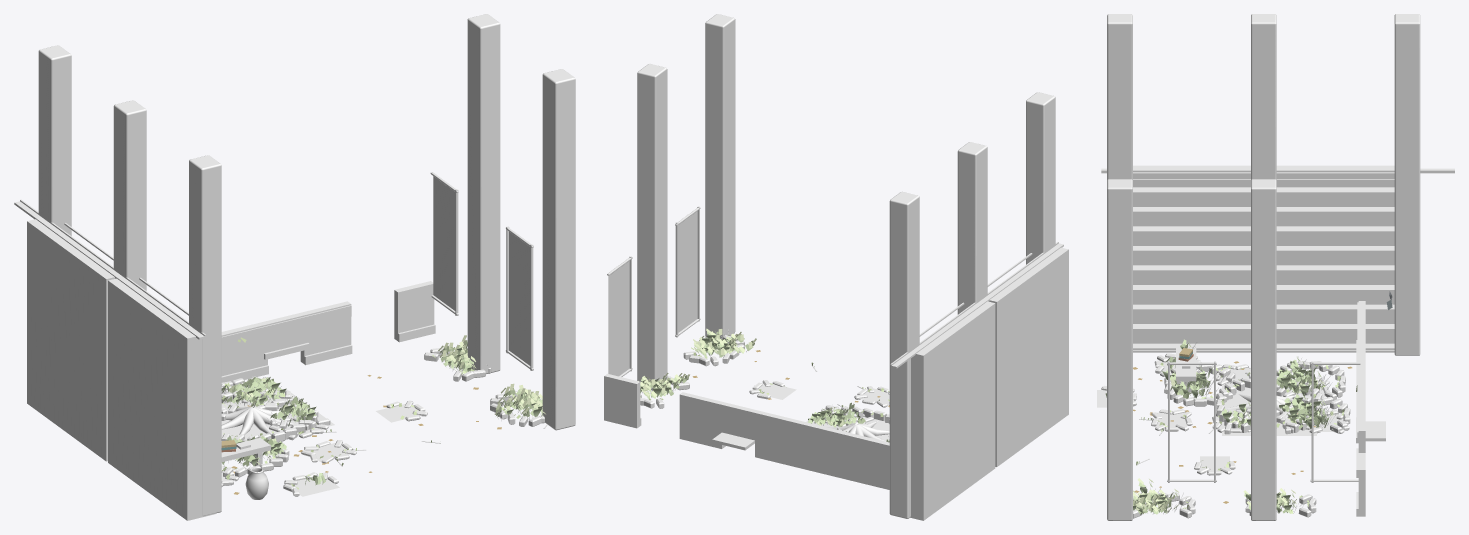
File: camp_garden.glb
The picture shows the model from 3 angles, left to right: view 1: azimuth 30°, elevation 25°; view 2: azimuth 150°, elevation 25°; view 3: azimuth 270°, elevation 25°; orthographic projection. The views are drawn at different scales.
Parts seen in each view (by area): view 1: camp_garden__brick, camp_garden__stack_atlas, camp_garden__wood, camp_garden__limestone, camp_garden__foliage_ivy_leaf, camp_garden__tapestry_1, camp_garden__brass, camp_garden__tapestry_2, camp_garden__earth_patch, camp_garden__foliage_tree_leaf, camp_garden__mosaic, camp_garden__sandstone (+2 smaller); view 2: camp_garden__brick, camp_garden__stack_atlas, camp_garden__wood, camp_garden__tapestry_1, camp_garden__tapestry_2, camp_garden__brass, camp_garden__limestone, camp_garden__foliage_tree_leaf, camp_garden__foliage_ivy_leaf, camp_garden__earth_patch, camp_garden__foliage_fern, camp_garden__bark; view 3: camp_garden__brick, camp_garden__stack_atlas, camp_garden__wood, camp_garden__limestone, camp_garden__brass, camp_garden__foliage_ivy_leaf, camp_garden__earth_patch, camp_garden__foliage_fern, camp_garden__foliage_tree_leaf, camp_garden__vine.
Boxes of the visible parts, x1,y1,x2,y2 form: camp_garden__brick: [38, 14, 575, 515]; camp_garden__stack_atlas: [28, 220, 193, 519]; camp_garden__wood: [14, 201, 270, 520]; camp_garden__limestone: [221, 343, 545, 496]; camp_garden__foliage_ivy_leaf: [221, 337, 543, 494]; camp_garden__tapestry_1: [433, 176, 455, 310]; camp_garden__brass: [20, 172, 533, 370]; camp_garden__tapestry_2: [509, 231, 530, 365]; camp_garden__earth_patch: [221, 386, 421, 496]; camp_garden__foliage_tree_leaf: [221, 335, 545, 489]; camp_garden__mosaic: [221, 305, 351, 348]; camp_garden__sandstone: [221, 324, 435, 465]; camp_garden__brick: [604, 14, 1055, 518]; camp_garden__stack_atlas: [918, 248, 1067, 518]; camp_garden__wood: [891, 243, 1068, 520]; camp_garden__tapestry_1: [608, 261, 629, 376]; camp_garden__tapestry_2: [678, 211, 697, 332]; camp_garden__brass: [607, 206, 1058, 376]; camp_garden__limestone: [640, 335, 889, 430]; camp_garden__foliage_tree_leaf: [638, 328, 889, 425]; camp_garden__foliage_ivy_leaf: [640, 331, 889, 442]; camp_garden__earth_patch: [755, 383, 889, 440]; camp_garden__foliage_fern: [640, 334, 889, 441]; camp_garden__bark: [826, 420, 889, 441]; camp_garden__brick: [1107, 14, 1420, 520]; camp_garden__stack_atlas: [1133, 165, 1394, 343]; camp_garden__wood: [1101, 168, 1454, 381]; camp_garden__limestone: [1101, 353, 1358, 518]; camp_garden__brass: [1101, 170, 1454, 482]; camp_garden__foliage_ivy_leaf: [1133, 291, 1392, 514]; camp_garden__earth_patch: [1097, 357, 1344, 472]; camp_garden__foliage_fern: [1133, 343, 1323, 514]; camp_garden__foliage_tree_leaf: [1105, 357, 1344, 513]; camp_garden__vine: [1136, 340, 1335, 514].
Size of what is drawn, in the model's own units: 14.94 by 12.84 by 12.45.
